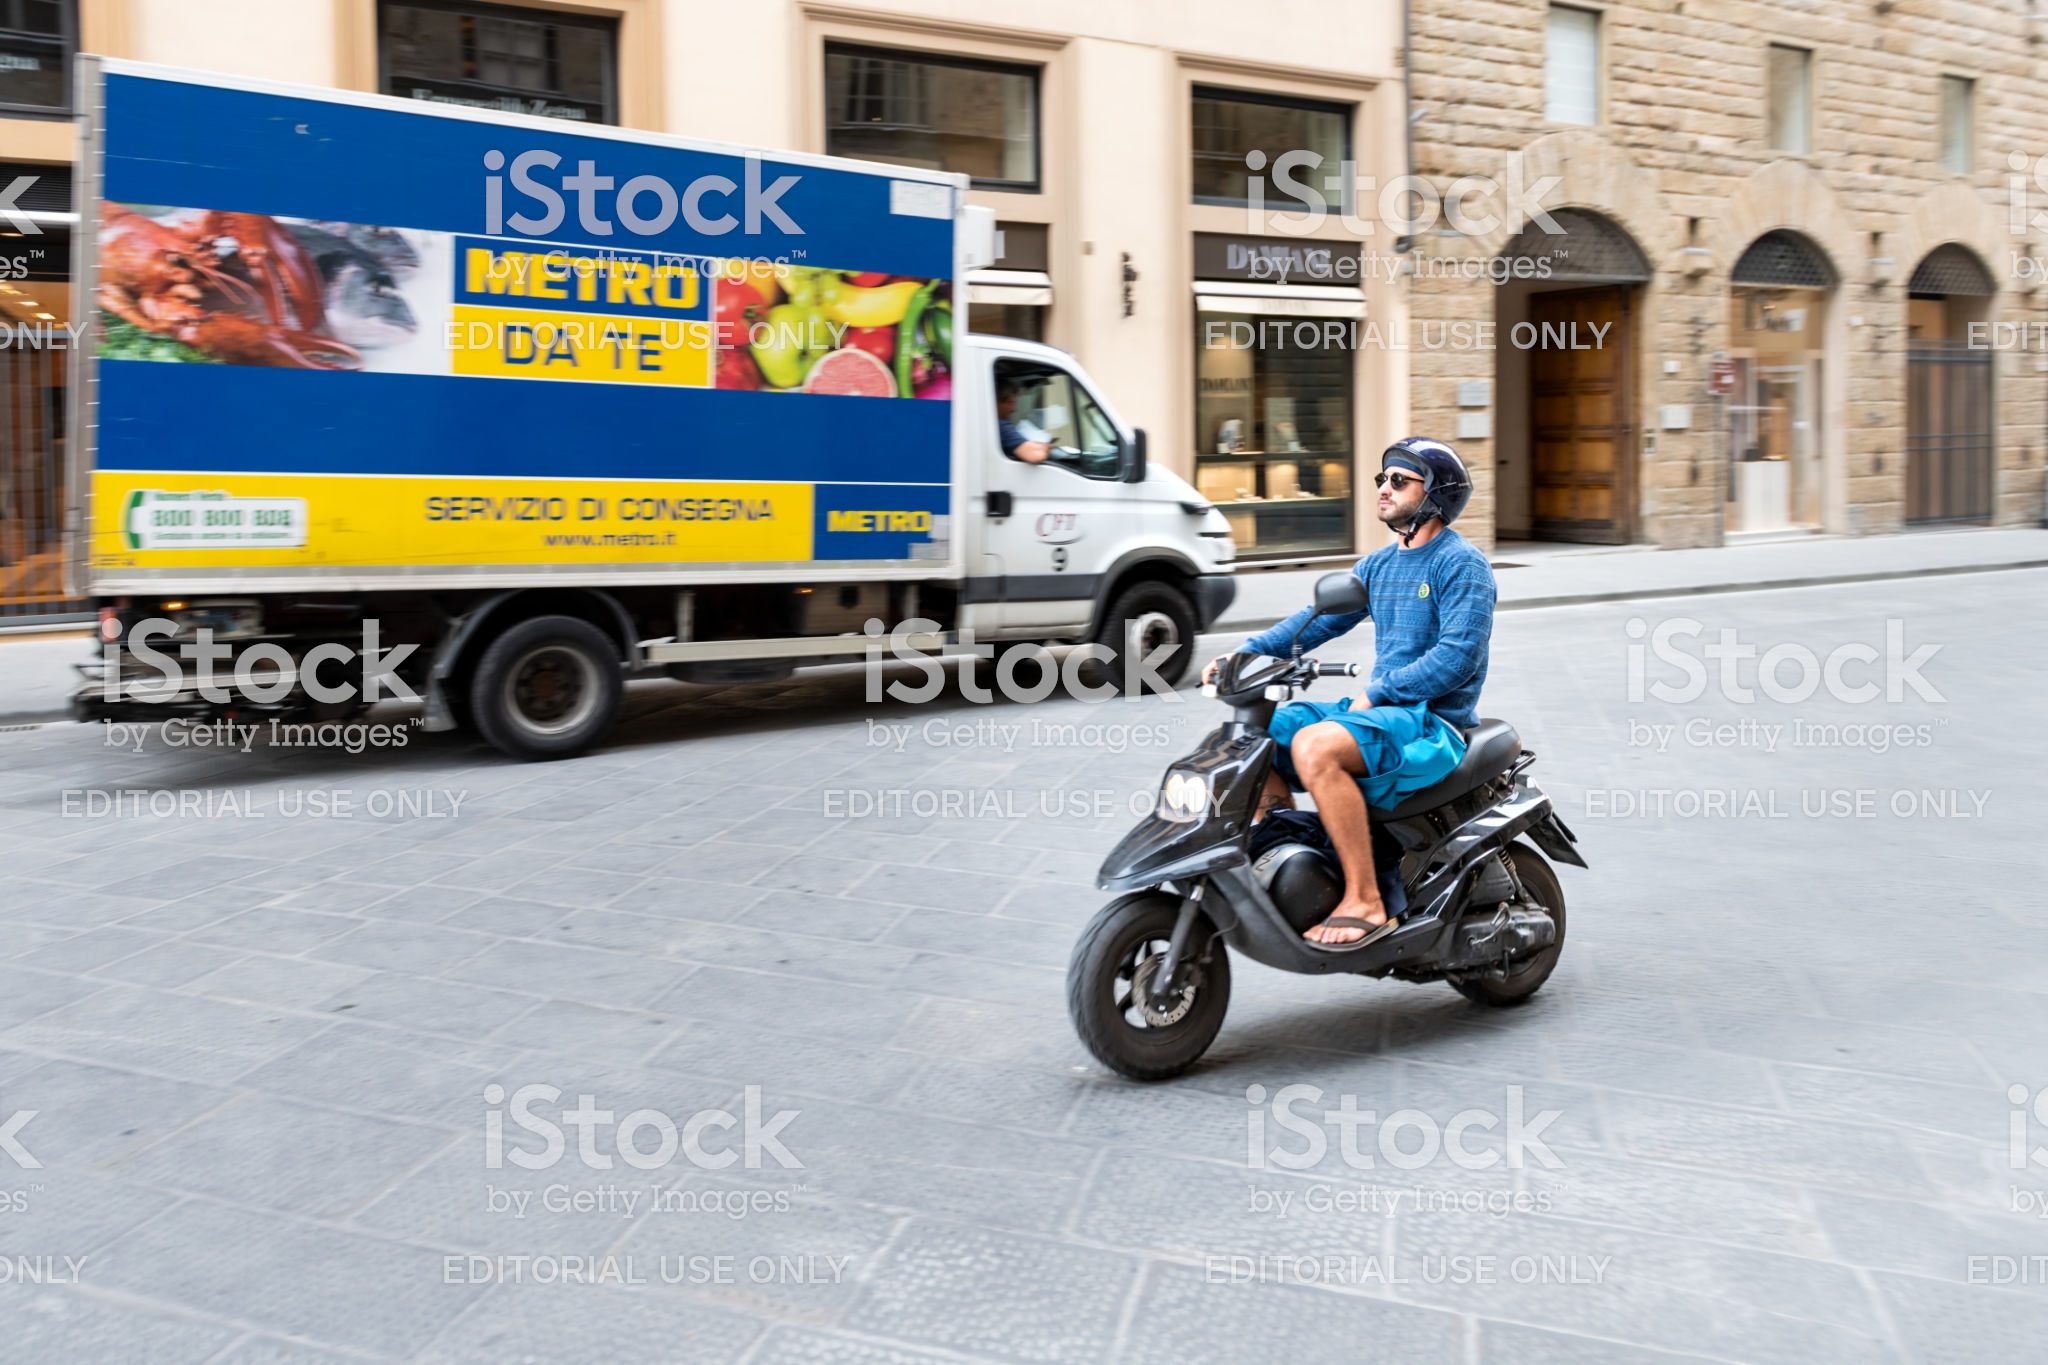helmet: (1375, 430, 1471, 521)
